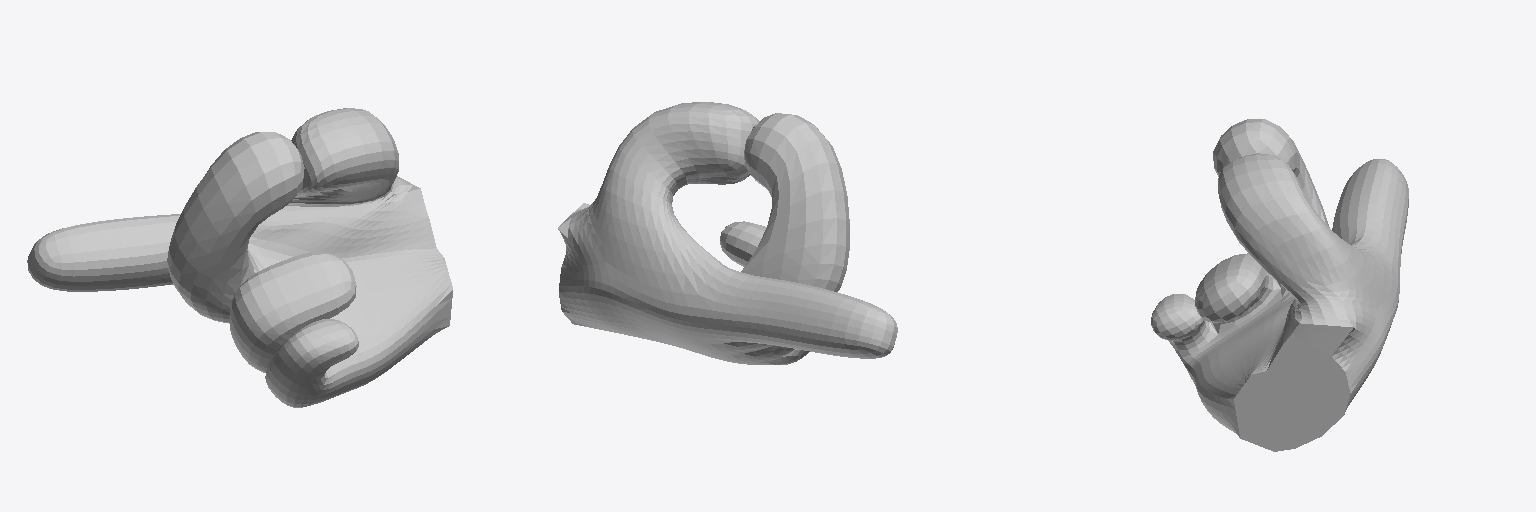
The picture shows the model from 3 angles: view 1: azimuth 30°, elevation 25°; view 2: azimuth 150°, elevation 25°; view 3: azimuth 270°, elevation 25°; orthographic projection.
Visible parts, largest first — view 1: D_Hand; view 2: D_Hand; view 3: D_Hand.
Boxes of the visible parts, x1=… form: D_Hand: x1=27, y1=108, x2=452, y2=407; D_Hand: x1=558, y1=102, x2=897, y2=364; D_Hand: x1=1151, y1=119, x2=1408, y2=451.
Size of the model in its own units: 176 by 127 by 113.